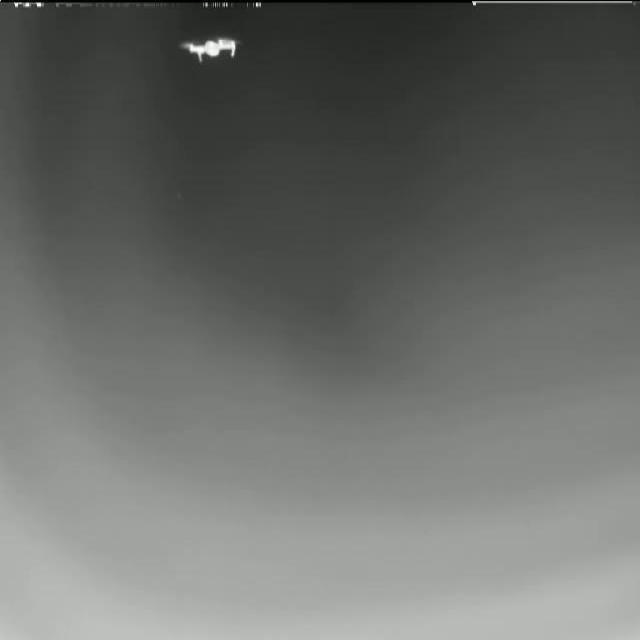DRONE: (179, 36, 244, 64)
